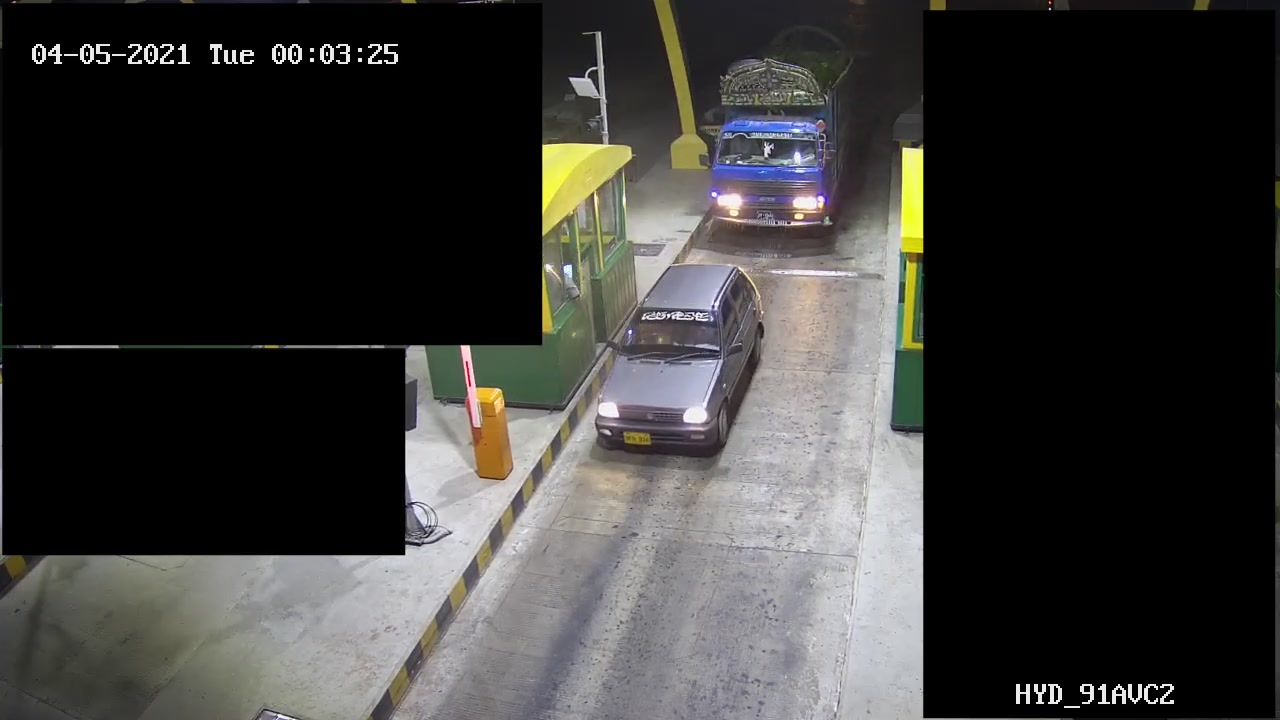F1: (583, 260, 775, 472)
F5: (699, 24, 853, 239)
